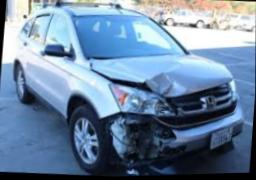Bonnet: (82, 49, 235, 99)
Bumper: (96, 110, 253, 171)
